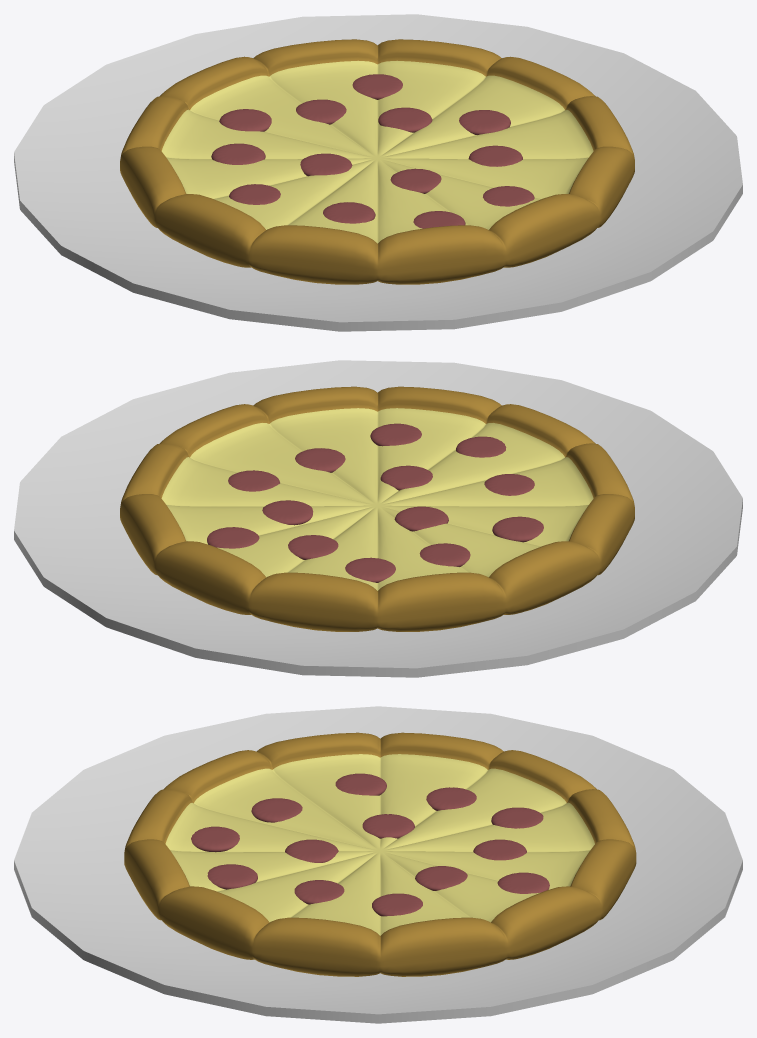
The model's file is pizza.glb.
3 views of the same model, one above another, from view 1: azimuth 30°, elevation 25°; view 2: azimuth 150°, elevation 25°; view 3: azimuth 270°, elevation 25° (orthographic).
Parts seen in each view (by area): view 1: pizza_high; view 2: pizza_high; view 3: pizza_high.
Boxes of the visible parts, bbox=[...] form: pizza_high: bbox=[14, 14, 742, 331]; pizza_high: bbox=[14, 360, 742, 677]; pizza_high: bbox=[14, 706, 742, 1023].
Size of the model in its own units: 1.84 by 0.1677 by 1.84.
